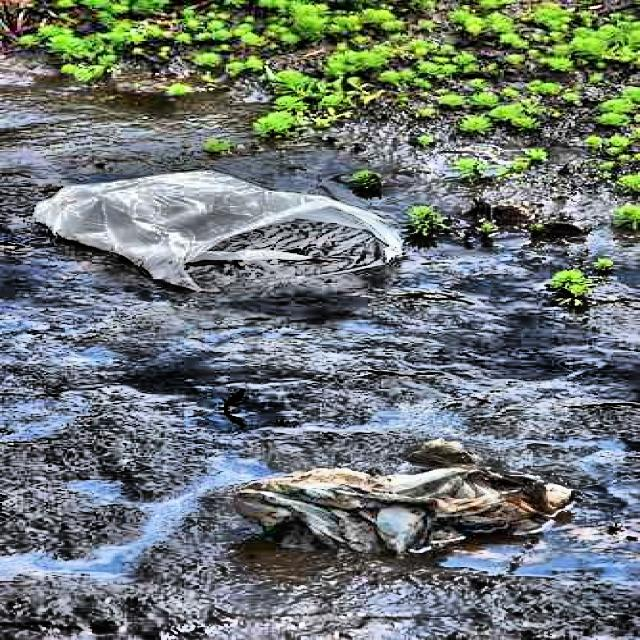Plastic: (33, 152, 409, 310)
